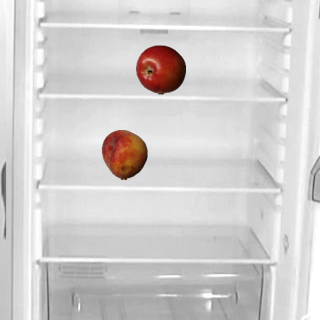Apple Braeburn: (135, 44, 185, 94)
Peach: (99, 129, 149, 179)
